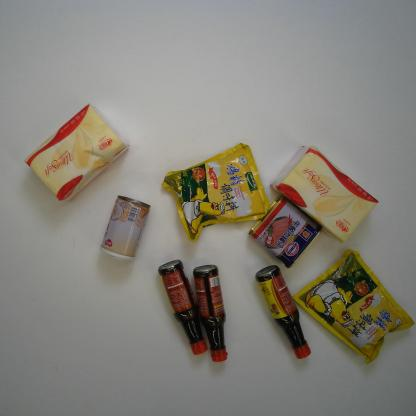Canned Food: (248, 195, 323, 268), (98, 195, 151, 262)
Seasoner: (292, 248, 416, 366), (161, 142, 271, 243), (255, 264, 312, 360), (158, 258, 208, 355), (192, 264, 229, 363)
Tissue: (271, 145, 380, 244), (23, 102, 129, 202)
